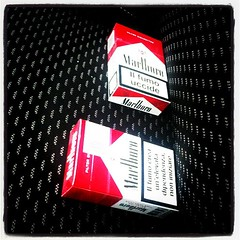cigarette: (61, 118, 180, 222), (105, 21, 172, 117)
